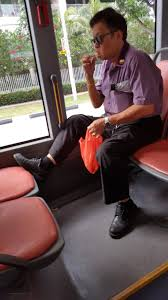eating: (68, 18, 150, 131)
